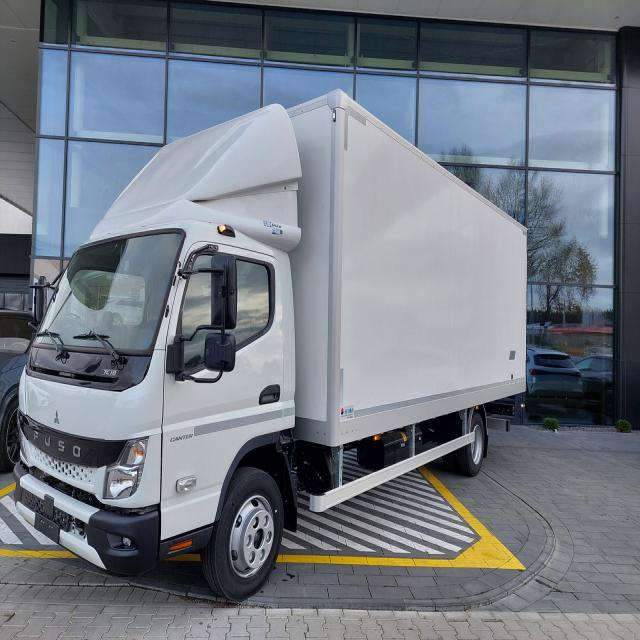truck: (15, 90, 531, 599)
